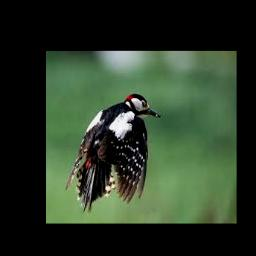Woodpecker: (66, 93, 161, 214)
